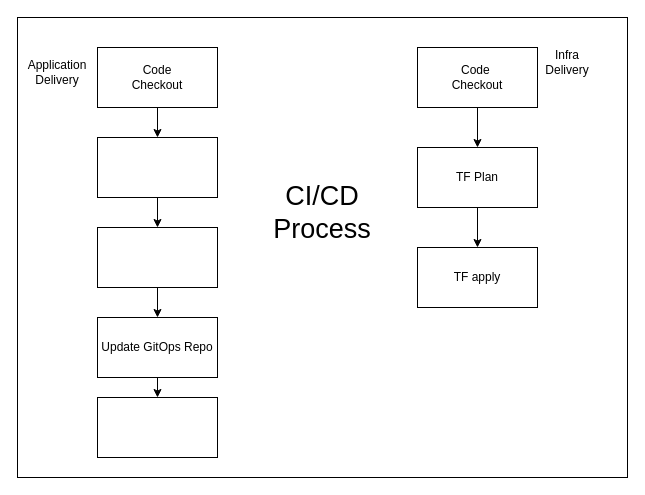
This 645x495 diagram has some shape labels left out. The box of each missing label's shape, as (x1, y1, x2, y2) in pixels:
Argo Sync: (96, 396, 218, 458)
Docker Build: (96, 136, 218, 198)
ECR Push: (96, 226, 218, 288)
